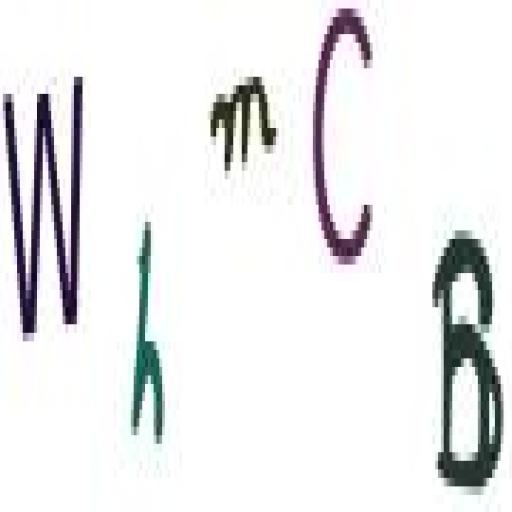B: (430, 205, 510, 504)
C: (311, 0, 383, 286)
W: (2, 71, 87, 347)
h: (123, 198, 169, 453)
m: (208, 66, 281, 194)
